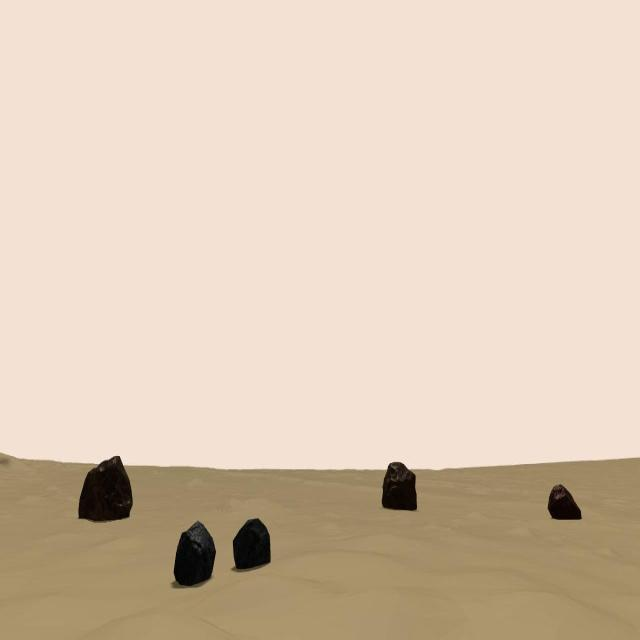rock: (78, 455, 132, 522), (173, 520, 216, 586), (232, 518, 270, 568), (382, 462, 418, 511), (547, 484, 582, 519)
